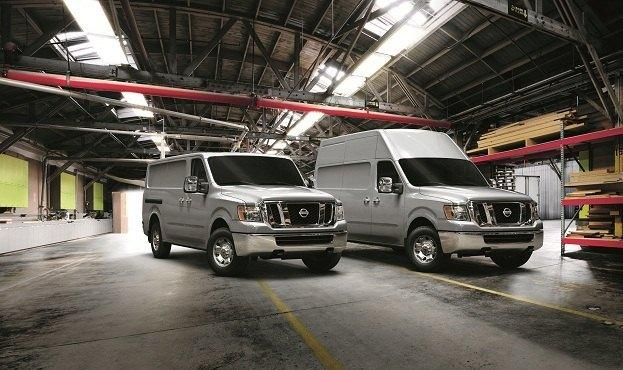car: (312, 130, 546, 271), (143, 153, 346, 280)
